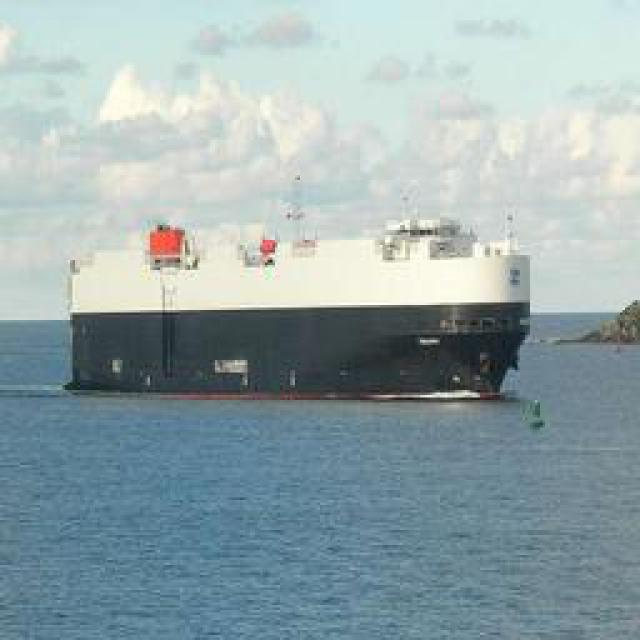Ship: (60, 200, 530, 403)
